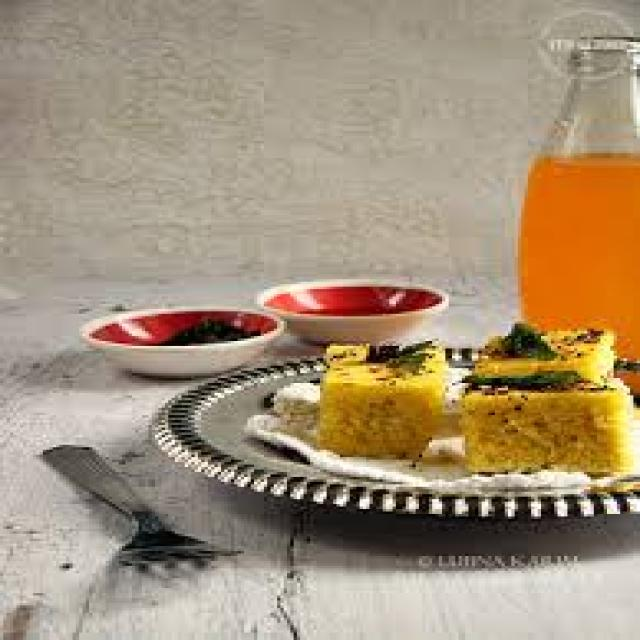DHOKLA: (461, 368, 637, 475), (314, 336, 445, 457), (473, 328, 615, 376)
